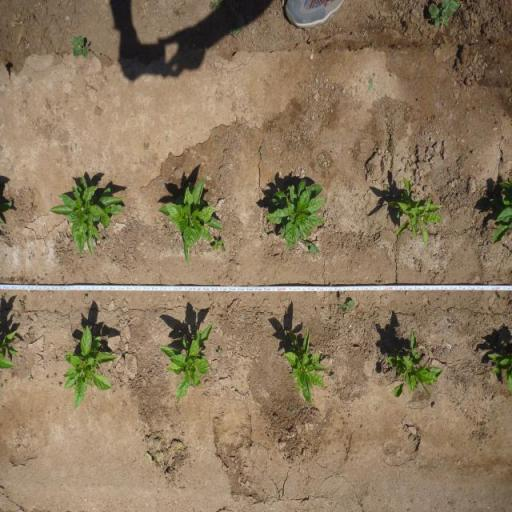plant: (154, 174, 224, 270), (48, 172, 125, 257), (158, 320, 214, 403), (263, 172, 325, 246), (62, 324, 115, 409), (386, 175, 446, 250), (384, 327, 442, 402), (282, 324, 328, 406), (485, 174, 512, 244), (485, 348, 512, 397), (0, 321, 20, 369)
weed: (423, 0, 462, 30), (68, 32, 91, 60), (336, 290, 356, 314), (212, 238, 226, 252), (210, 0, 226, 10), (18, 294, 28, 310), (0, 276, 15, 284), (232, 26, 242, 36), (286, 405, 296, 415), (83, 290, 93, 300), (0, 226, 7, 239), (368, 76, 374, 91), (142, 140, 150, 150), (216, 347, 224, 357), (29, 276, 37, 286), (27, 374, 34, 382), (257, 146, 263, 155), (330, 372, 336, 380), (209, 304, 215, 312), (20, 277, 26, 284), (232, 234, 238, 240), (381, 183, 388, 188), (58, 381, 63, 387), (54, 356, 59, 362)
